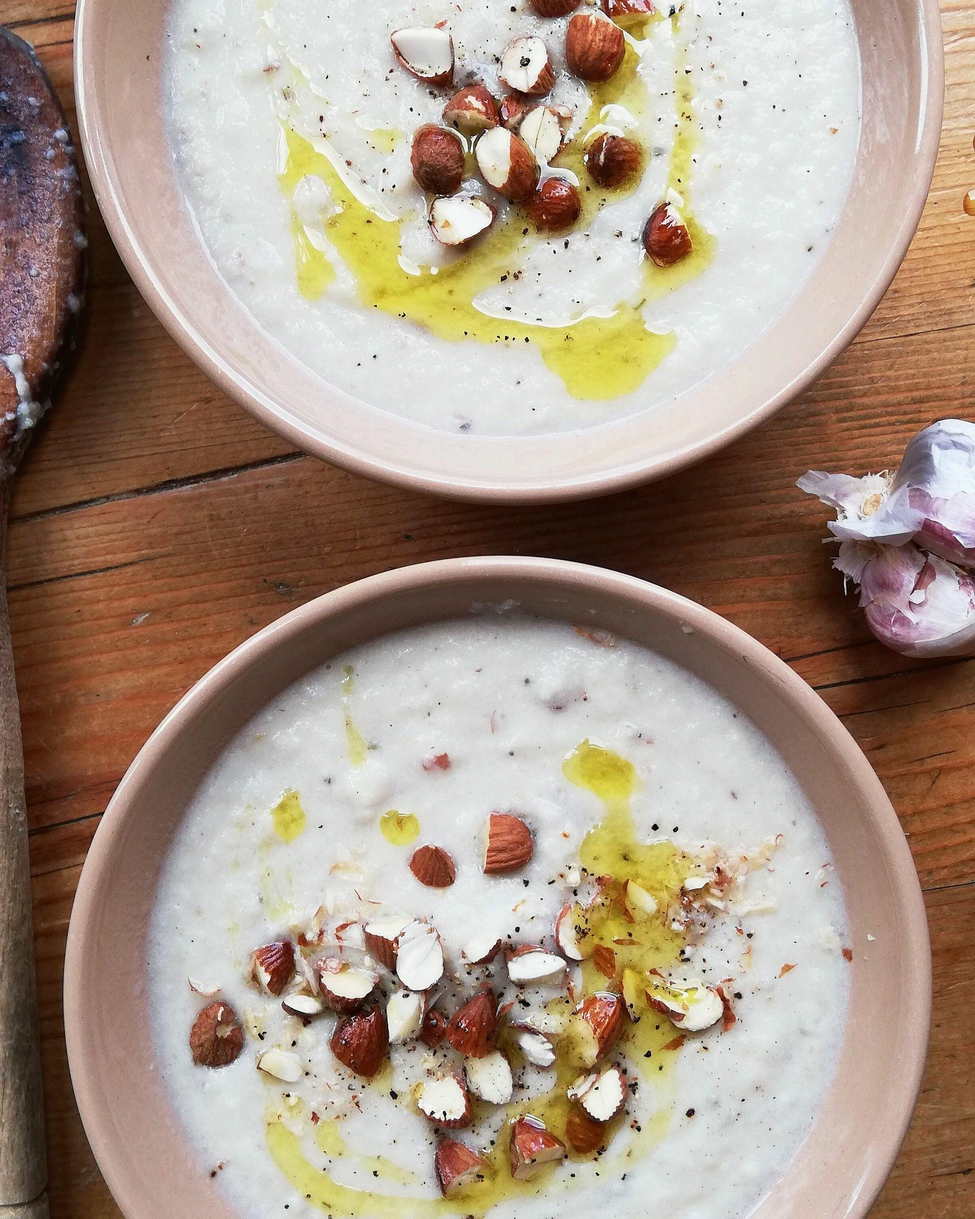Kheer: (152, 619, 848, 1217), (165, 0, 863, 440)
